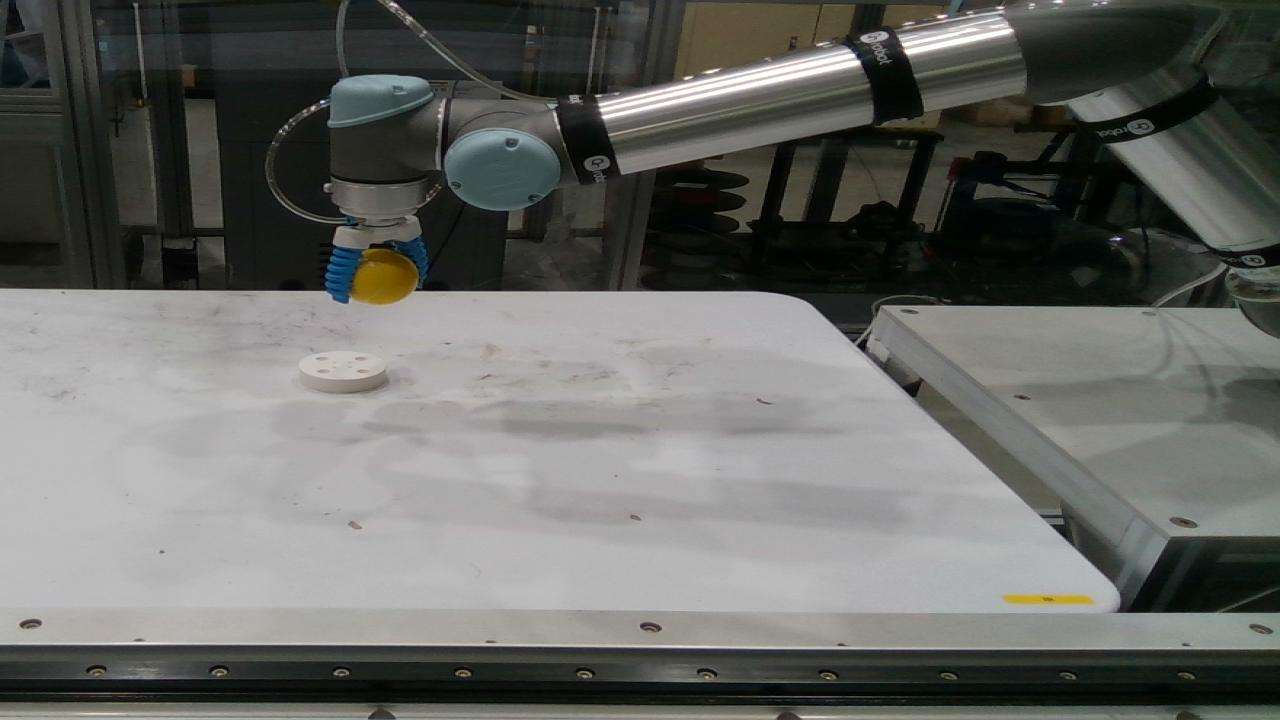UR5: (326, 1, 1279, 336)
gripper_left: (393, 236, 428, 280)
gripper_right: (326, 248, 358, 299)
target: (351, 248, 417, 304), (300, 354, 384, 394)
